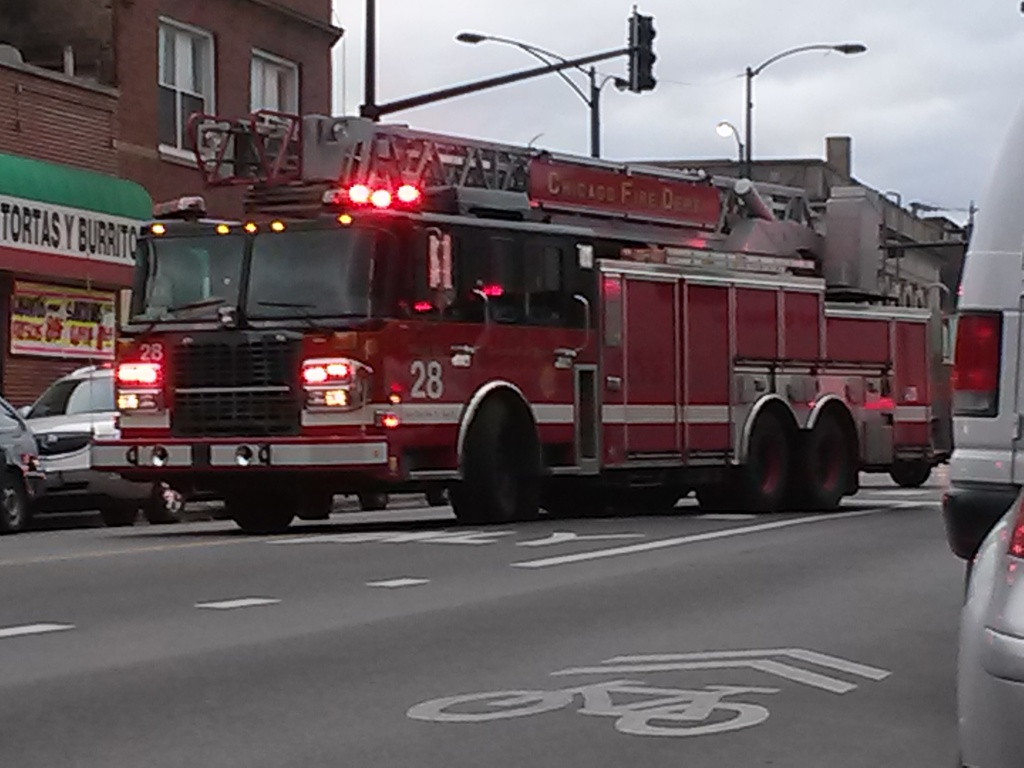Car: (16, 354, 187, 525), (956, 485, 1023, 767), (0, 392, 42, 536)
